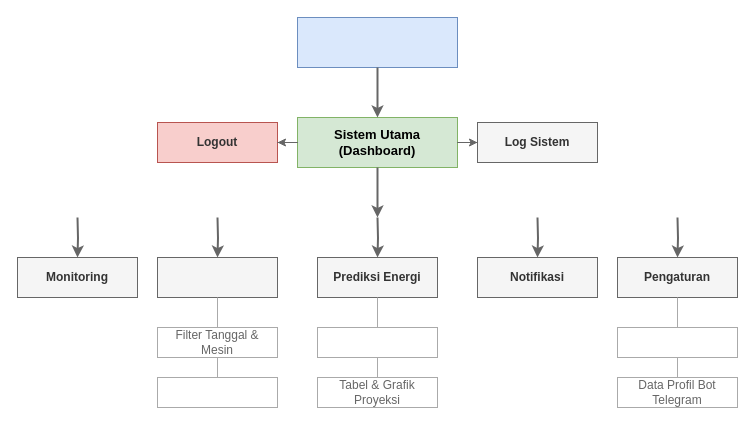
Some shapes in this 755 by 425 pixel diagram are drawn without their labels. The shapes that lost their labels are listed below. From the top down, each one's centre as x and y in pixels, then its label:
At (x=377, y=42): "Halaman Login".
At (x=217, y=277): "Riwayat Data".
At (x=377, y=342): "Kalkulasi DES".
At (x=677, y=342): "Tarif Listrik (kWh)".
At (x=217, y=392): "Ekspor ke Excel".
